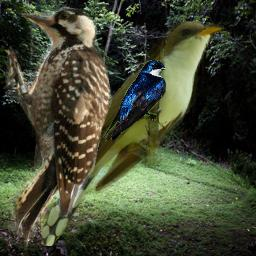Cuckoo: (41, 21, 224, 246)
Swallow: (103, 60, 167, 143)
Woodpecker: (1, 2, 112, 250)
